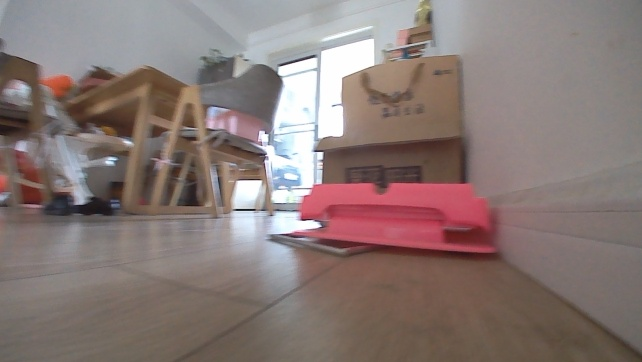dining_table: (0, 50, 287, 219)
